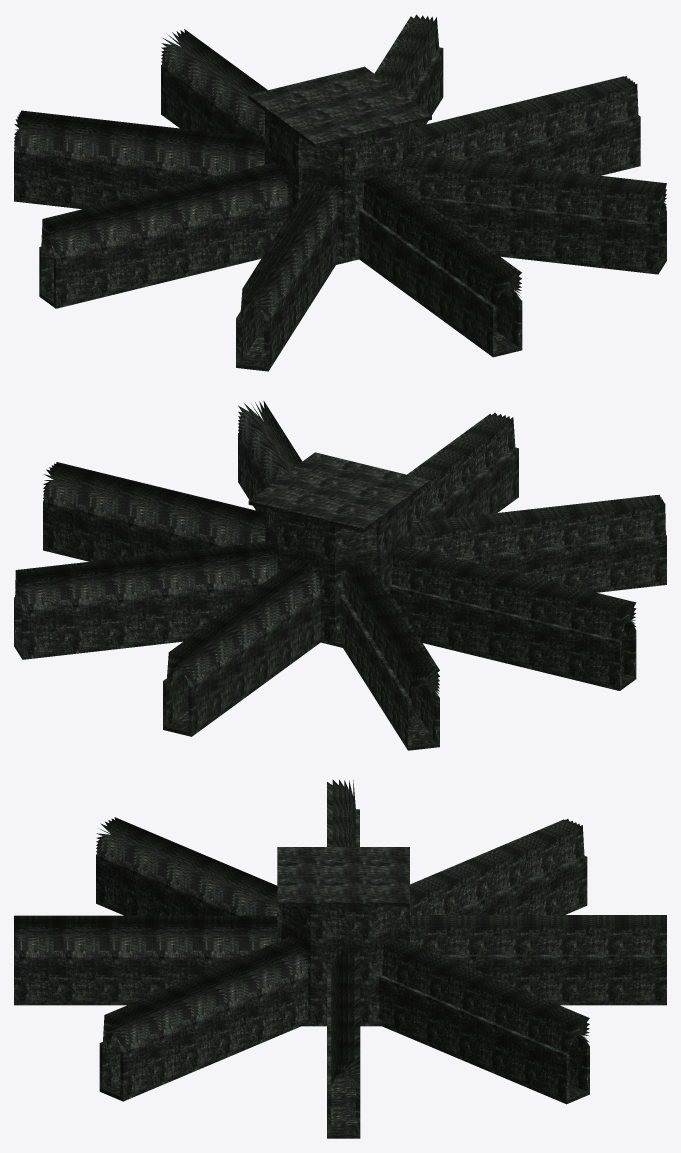
The model's file is PD_startroom.obj.
3 renders of one model, top to bottom at view 1: azimuth 30°, elevation 25°; view 2: azimuth 150°, elevation 25°; view 3: azimuth 270°, elevation 25°, orthographic.
Visible parts, largest first — view 1: pocketdimension2.006_pocketdimension2.007, pocketdimension2.001, pocketdimension2.005_pocketdimension2.006, pocketdimension1, pocketdimension2, pocketdimension2.002_pocketdimension2.003, pocketdimension2.007_pocketdimension2.008, pocketdimension2.004_pocketdimension2.005, pocketdimension2.003_pocketdimension2.004; view 2: pocketdimension2.006_pocketdimension2.007, pocketdimension2.003_pocketdimension2.004, pocketdimension2.007_pocketdimension2.008, pocketdimension1, pocketdimension2.004_pocketdimension2.005, pocketdimension2.002_pocketdimension2.003, pocketdimension2.005_pocketdimension2.006, pocketdimension2, pocketdimension2.001; view 3: pocketdimension2.003_pocketdimension2.004, pocketdimension2.001, pocketdimension2, pocketdimension2.004_pocketdimension2.005, pocketdimension1, pocketdimension2.007_pocketdimension2.008, pocketdimension2.005_pocketdimension2.006, pocketdimension2.002_pocketdimension2.003, pocketdimension2.006_pocketdimension2.007.
Part boxes in pixels (left/top/right/bottom): pocketdimension2.006_pocketdimension2.007: left=39, top=160, right=288, bottom=308; pocketdimension2.001: left=403, top=154, right=666, bottom=274; pocketdimension2.005_pocketdimension2.006: left=14, top=110, right=264, bottom=209; pocketdimension1: left=248, top=66, right=431, bottom=264; pocketdimension2: left=359, top=173, right=522, bottom=357; pocketdimension2.002_pocketdimension2.003: left=415, top=76, right=640, bottom=175; pocketdimension2.007_pocketdimension2.008: left=236, top=178, right=337, bottom=371; pocketdimension2.004_pocketdimension2.005: left=161, top=29, right=267, bottom=137; pocketdimension2.003_pocketdimension2.004: left=374, top=14, right=443, bottom=126; pocketdimension2.006_pocketdimension2.007: left=390, top=544, right=636, bottom=690; pocketdimension2.003_pocketdimension2.004: left=14, top=538, right=277, bottom=659; pocketdimension2.007_pocketdimension2.008: left=413, top=494, right=666, bottom=592; pocketdimension1: left=248, top=452, right=429, bottom=647; pocketdimension2.004_pocketdimension2.005: left=163, top=558, right=320, bottom=736; pocketdimension2.002_pocketdimension2.003: left=43, top=462, right=265, bottom=561; pocketdimension2.005_pocketdimension2.006: left=340, top=562, right=439, bottom=750; pocketdimension2: left=407, top=412, right=518, bottom=522; pocketdimension2.001: left=238, top=401, right=302, bottom=512; pocketdimension2.003_pocketdimension2.004: left=379, top=937, right=589, bottom=1104; pocketdimension2.001: left=99, top=937, right=308, bottom=1101; pocketdimension2: left=14, top=915, right=277, bottom=1005; pocketdimension2.004_pocketdimension2.005: left=410, top=915, right=666, bottom=1005; pocketdimension1: left=277, top=847, right=409, bottom=1026; pocketdimension2.007_pocketdimension2.008: left=96, top=817, right=277, bottom=915; pocketdimension2.005_pocketdimension2.006: left=410, top=819, right=587, bottom=914; pocketdimension2.002_pocketdimension2.003: left=327, top=948, right=360, bottom=1138; pocketdimension2.006_pocketdimension2.007: left=327, top=779, right=359, bottom=846.
Size of the model in its own units: 1285 by 268 by 1263.
